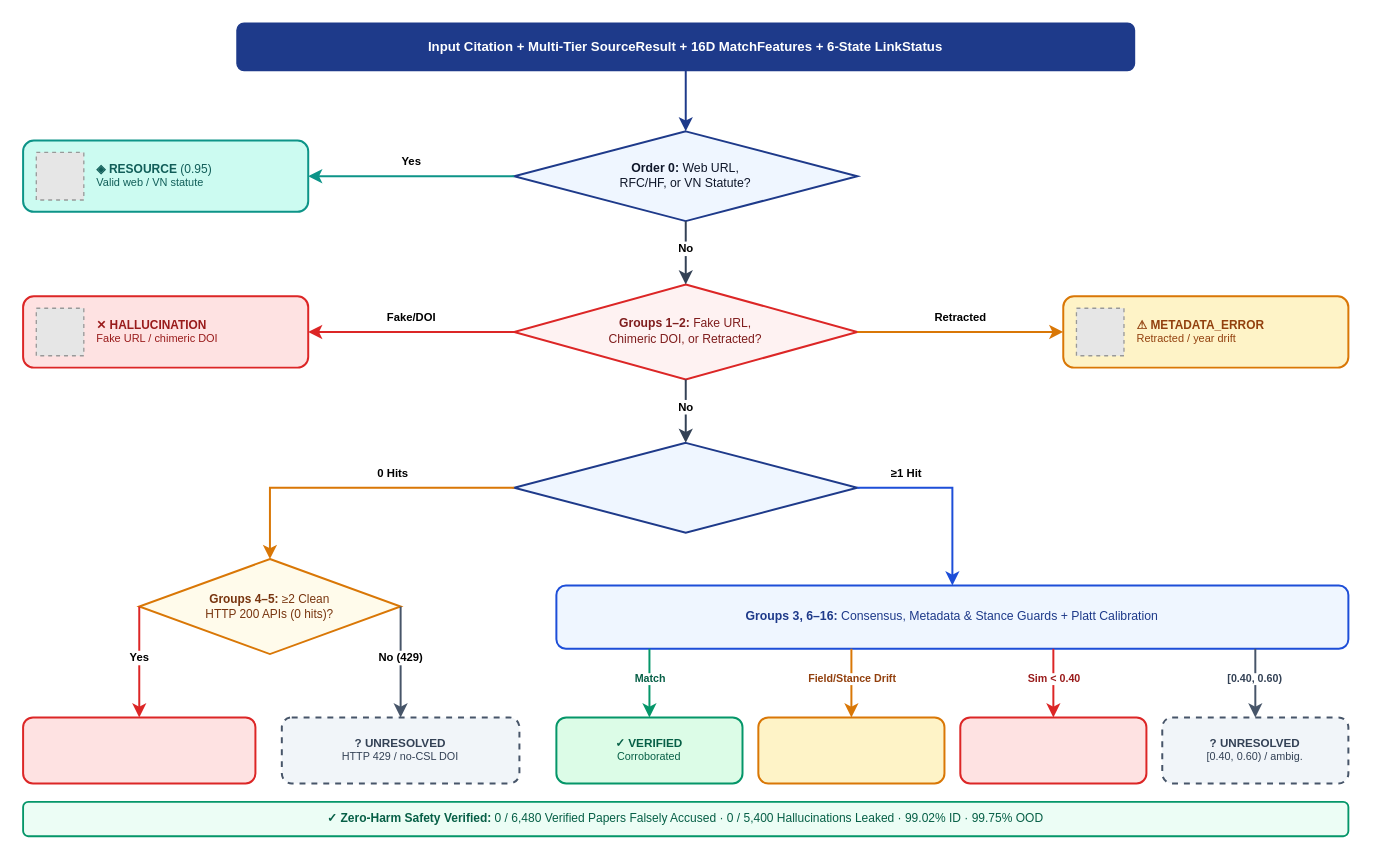
This 1373x861 diagram has some shape labels left out. Grey dashed boxes stand in for pictures. The shapes that lost their labels are listed below. From the top down, each one's centre as x and y in pixels, then its label:
At pixel 685 487: "Candidates Found in Tier 0 or Tier 1/2?".
At pixel 139 750: "✕ HALLUCINATION Clean refutation (≤0.88)".
At pixel 851 750: "⚠ METADATA_ERROR Field / stance drift".
At pixel 1053 750: "✕ HALLUCINATION Sim < 0.40".
